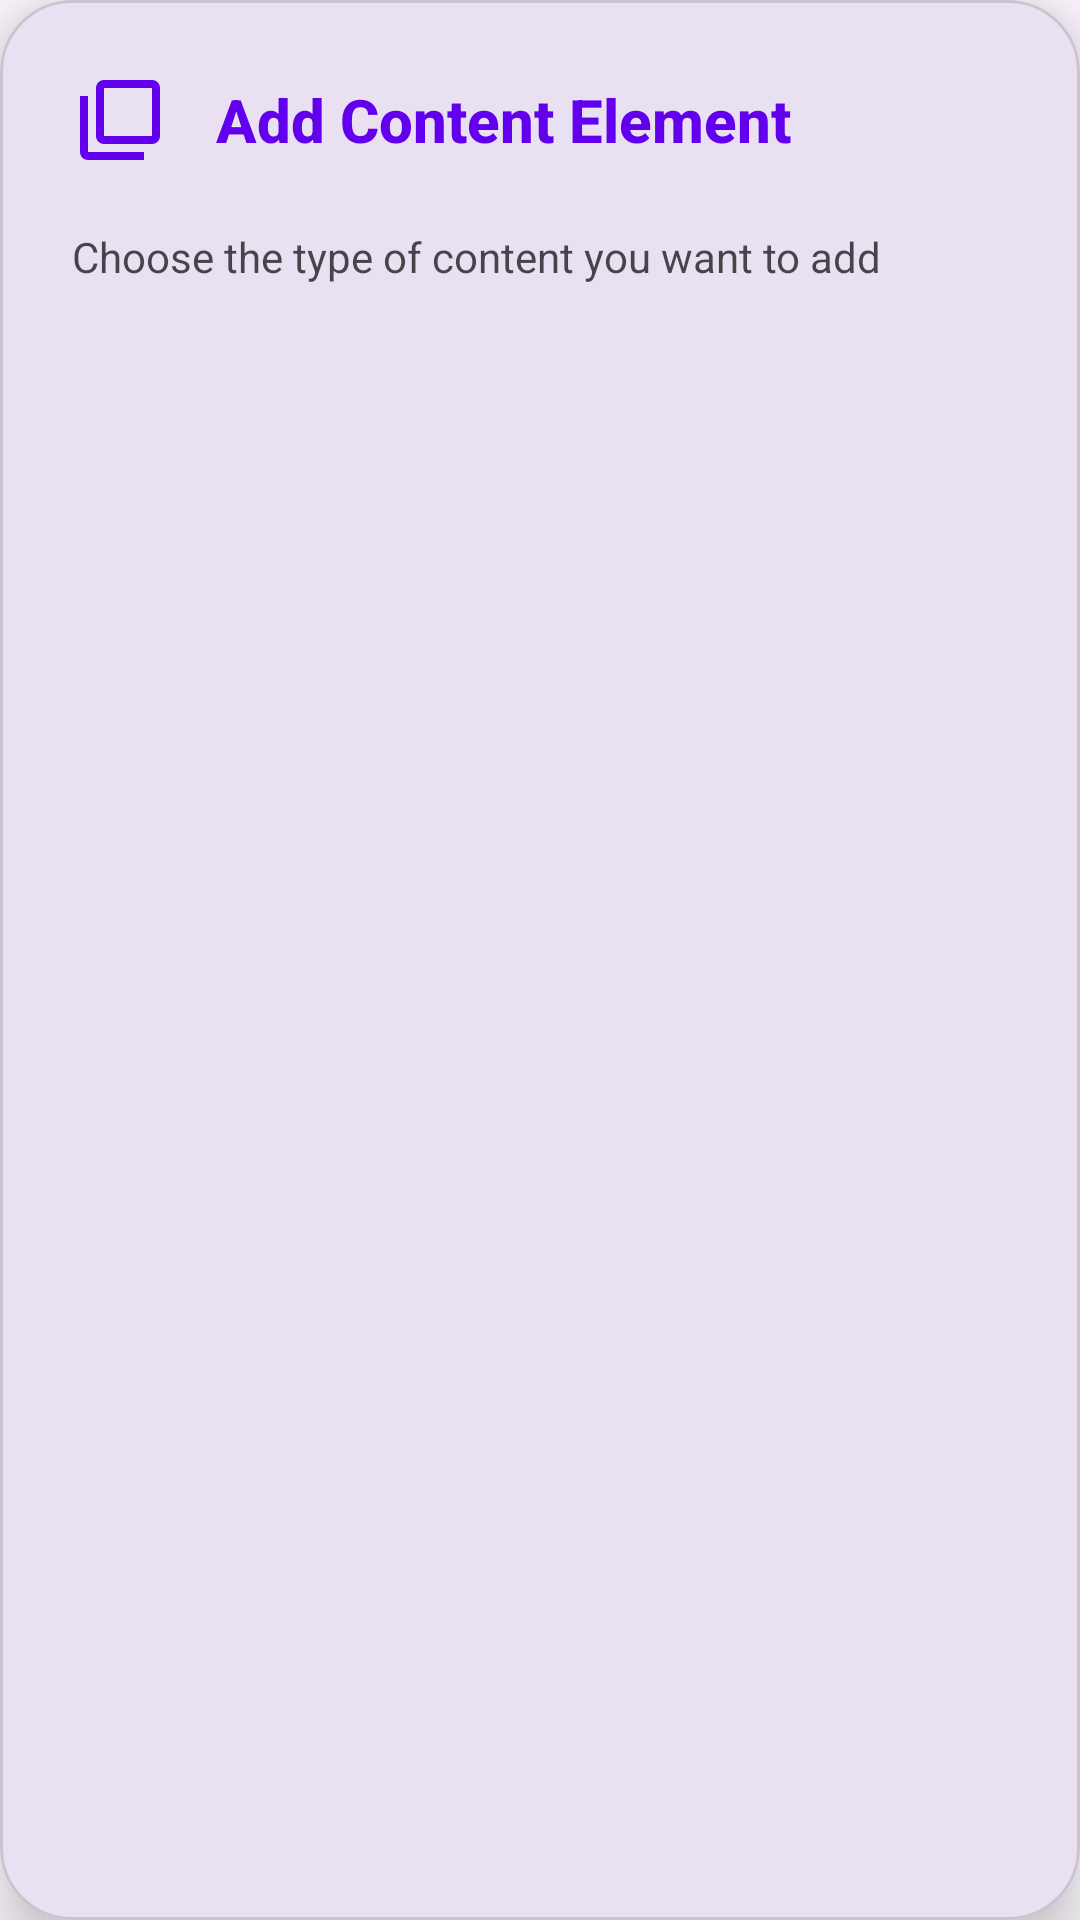

Icon click points for this 1080*1920 phone screenshot, format (x,y):
elements: (120,120)
